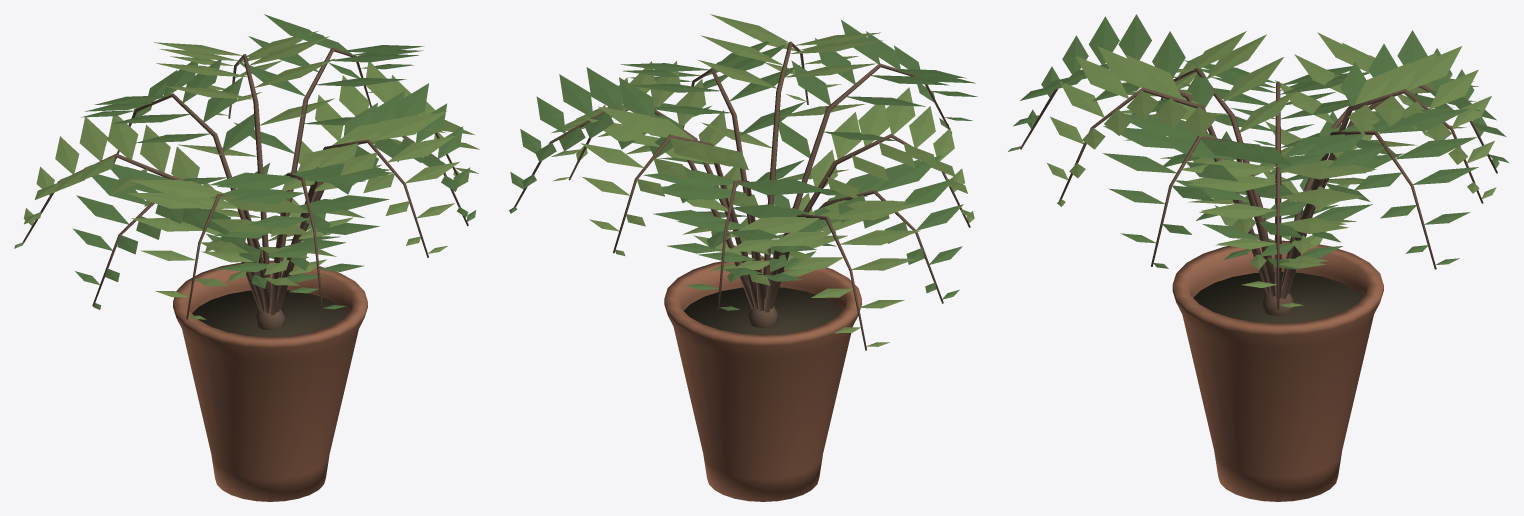
File: rpg-mansion-garden-tabletop-fern-01.glb
The picture shows the model from 3 angles, left to right: view 1: azimuth 30°, elevation 25°; view 2: azimuth 150°, elevation 25°; view 3: azimuth 270°, elevation 25°; orthographic projection. The views are drawn at different scales.
Visible parts, largest first — view 1: rpg-mansion-garden-tabletop-fern-01; view 2: rpg-mansion-garden-tabletop-fern-01; view 3: rpg-mansion-garden-tabletop-fern-01.
Boxes of the visible parts, x1,y1,x2,y2 form: rpg-mansion-garden-tabletop-fern-01: (14, 14, 479, 501); rpg-mansion-garden-tabletop-fern-01: (509, 14, 977, 501); rpg-mansion-garden-tabletop-fern-01: (1008, 14, 1508, 501).
Bounding box in the file's own units: 0.3048 × 0.2871 × 0.3141.
